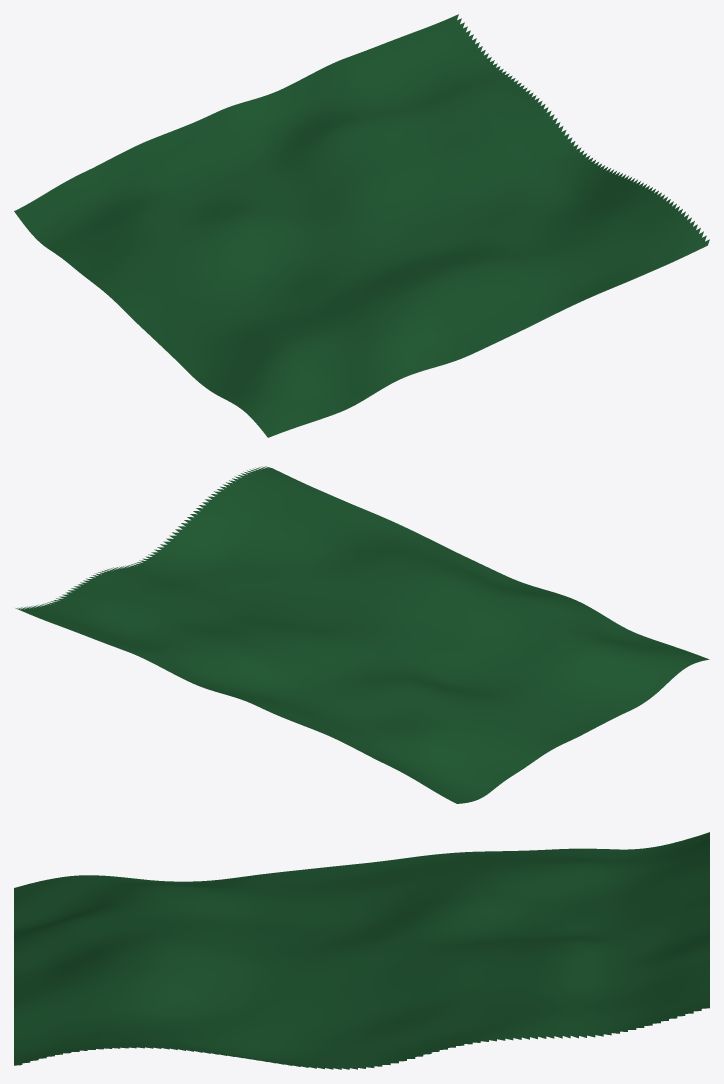
File: payo_land_x2_y0_lod1.glb
3 views of the same model, one above another, from view 1: azimuth 30°, elevation 25°; view 2: azimuth 150°, elevation 25°; view 3: azimuth 270°, elevation 25° (orthographic). The views are drawn at different scales.
Parts seen in each view (by area): view 1: payo_land_x2_y0; view 2: payo_land_x2_y0; view 3: payo_land_x2_y0.
Part boxes in pixels (x1=…): payo_land_x2_y0: x1=14, y1=14, x2=709, y2=437; payo_land_x2_y0: x1=15, y1=466, x2=709, y2=803; payo_land_x2_y0: x1=14, y1=832, x2=709, y2=1069.
Size of the model in its own units: 258 by 71.71 by 255.
